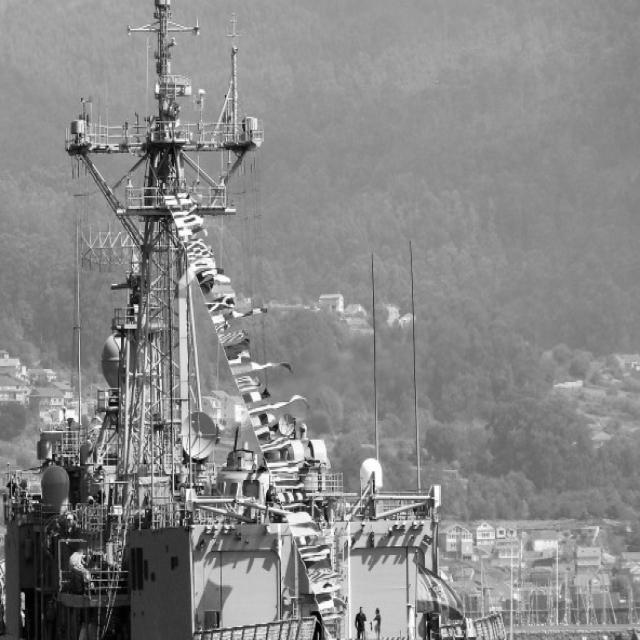Fragata: (1, 1, 507, 640)
